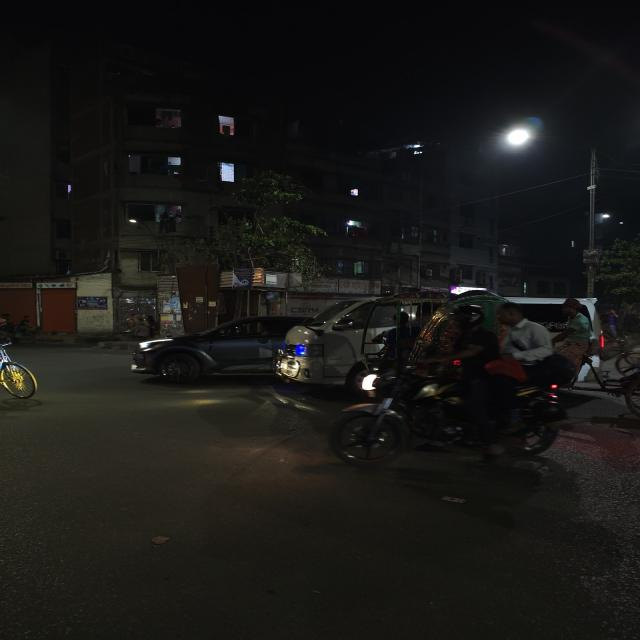car: (127, 310, 320, 390)
motorcycle: (311, 352, 590, 474)
